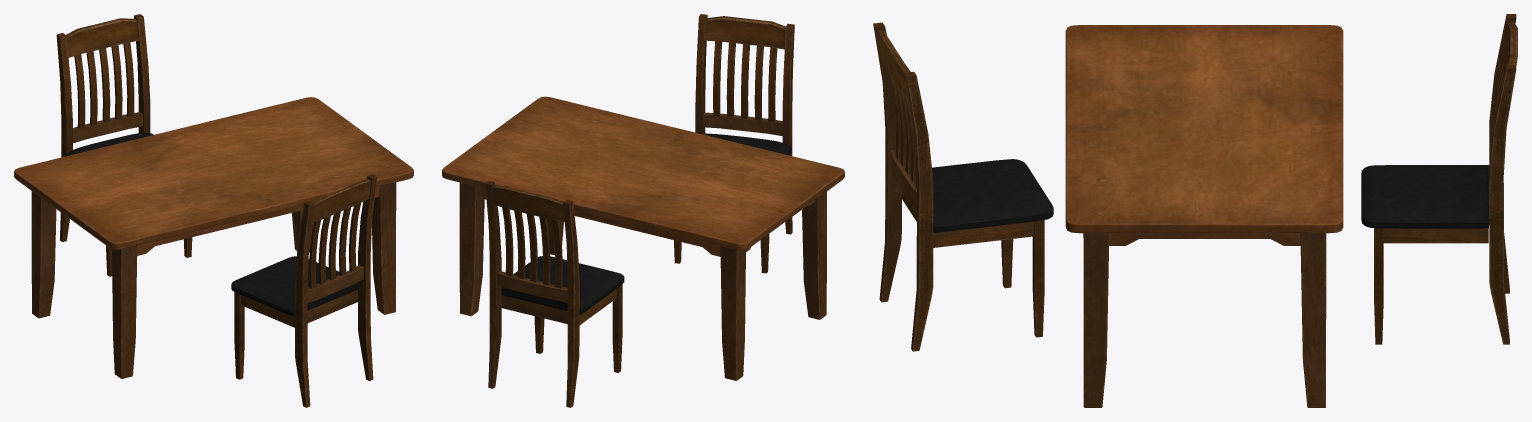
File: p_tablechair.glb
3 views of the same model, side by side, from view 1: azimuth 30°, elevation 25°; view 2: azimuth 150°, elevation 25°; view 3: azimuth 270°, elevation 25° (orthographic). The views are drawn at different scales.
Visible parts, largest first — view 1: old_table_old_table_0, chair001_chair_0, chair_chair_0; view 2: old_table_old_table_0, chair_chair_0, chair001_chair_0; view 3: old_table_old_table_0, chair001_chair_0, chair_chair_0.
Part boxes in pixels (x1,y1,x2,y2): old_table_old_table_0: [14, 97, 413, 378]; chair001_chair_0: [231, 174, 377, 407]; chair_chair_0: [56, 14, 192, 276]; old_table_old_table_0: [442, 96, 844, 380]; chair_chair_0: [485, 180, 624, 407]; chair001_chair_0: [674, 14, 794, 273]; old_table_old_table_0: [1065, 25, 1343, 407]; chair001_chair_0: [873, 22, 1053, 351]; chair_chair_0: [1361, 14, 1517, 344].
Bounding box in the file's own units: 1.2 × 0.7765 × 1.64.
2 materials, 2 textured.
